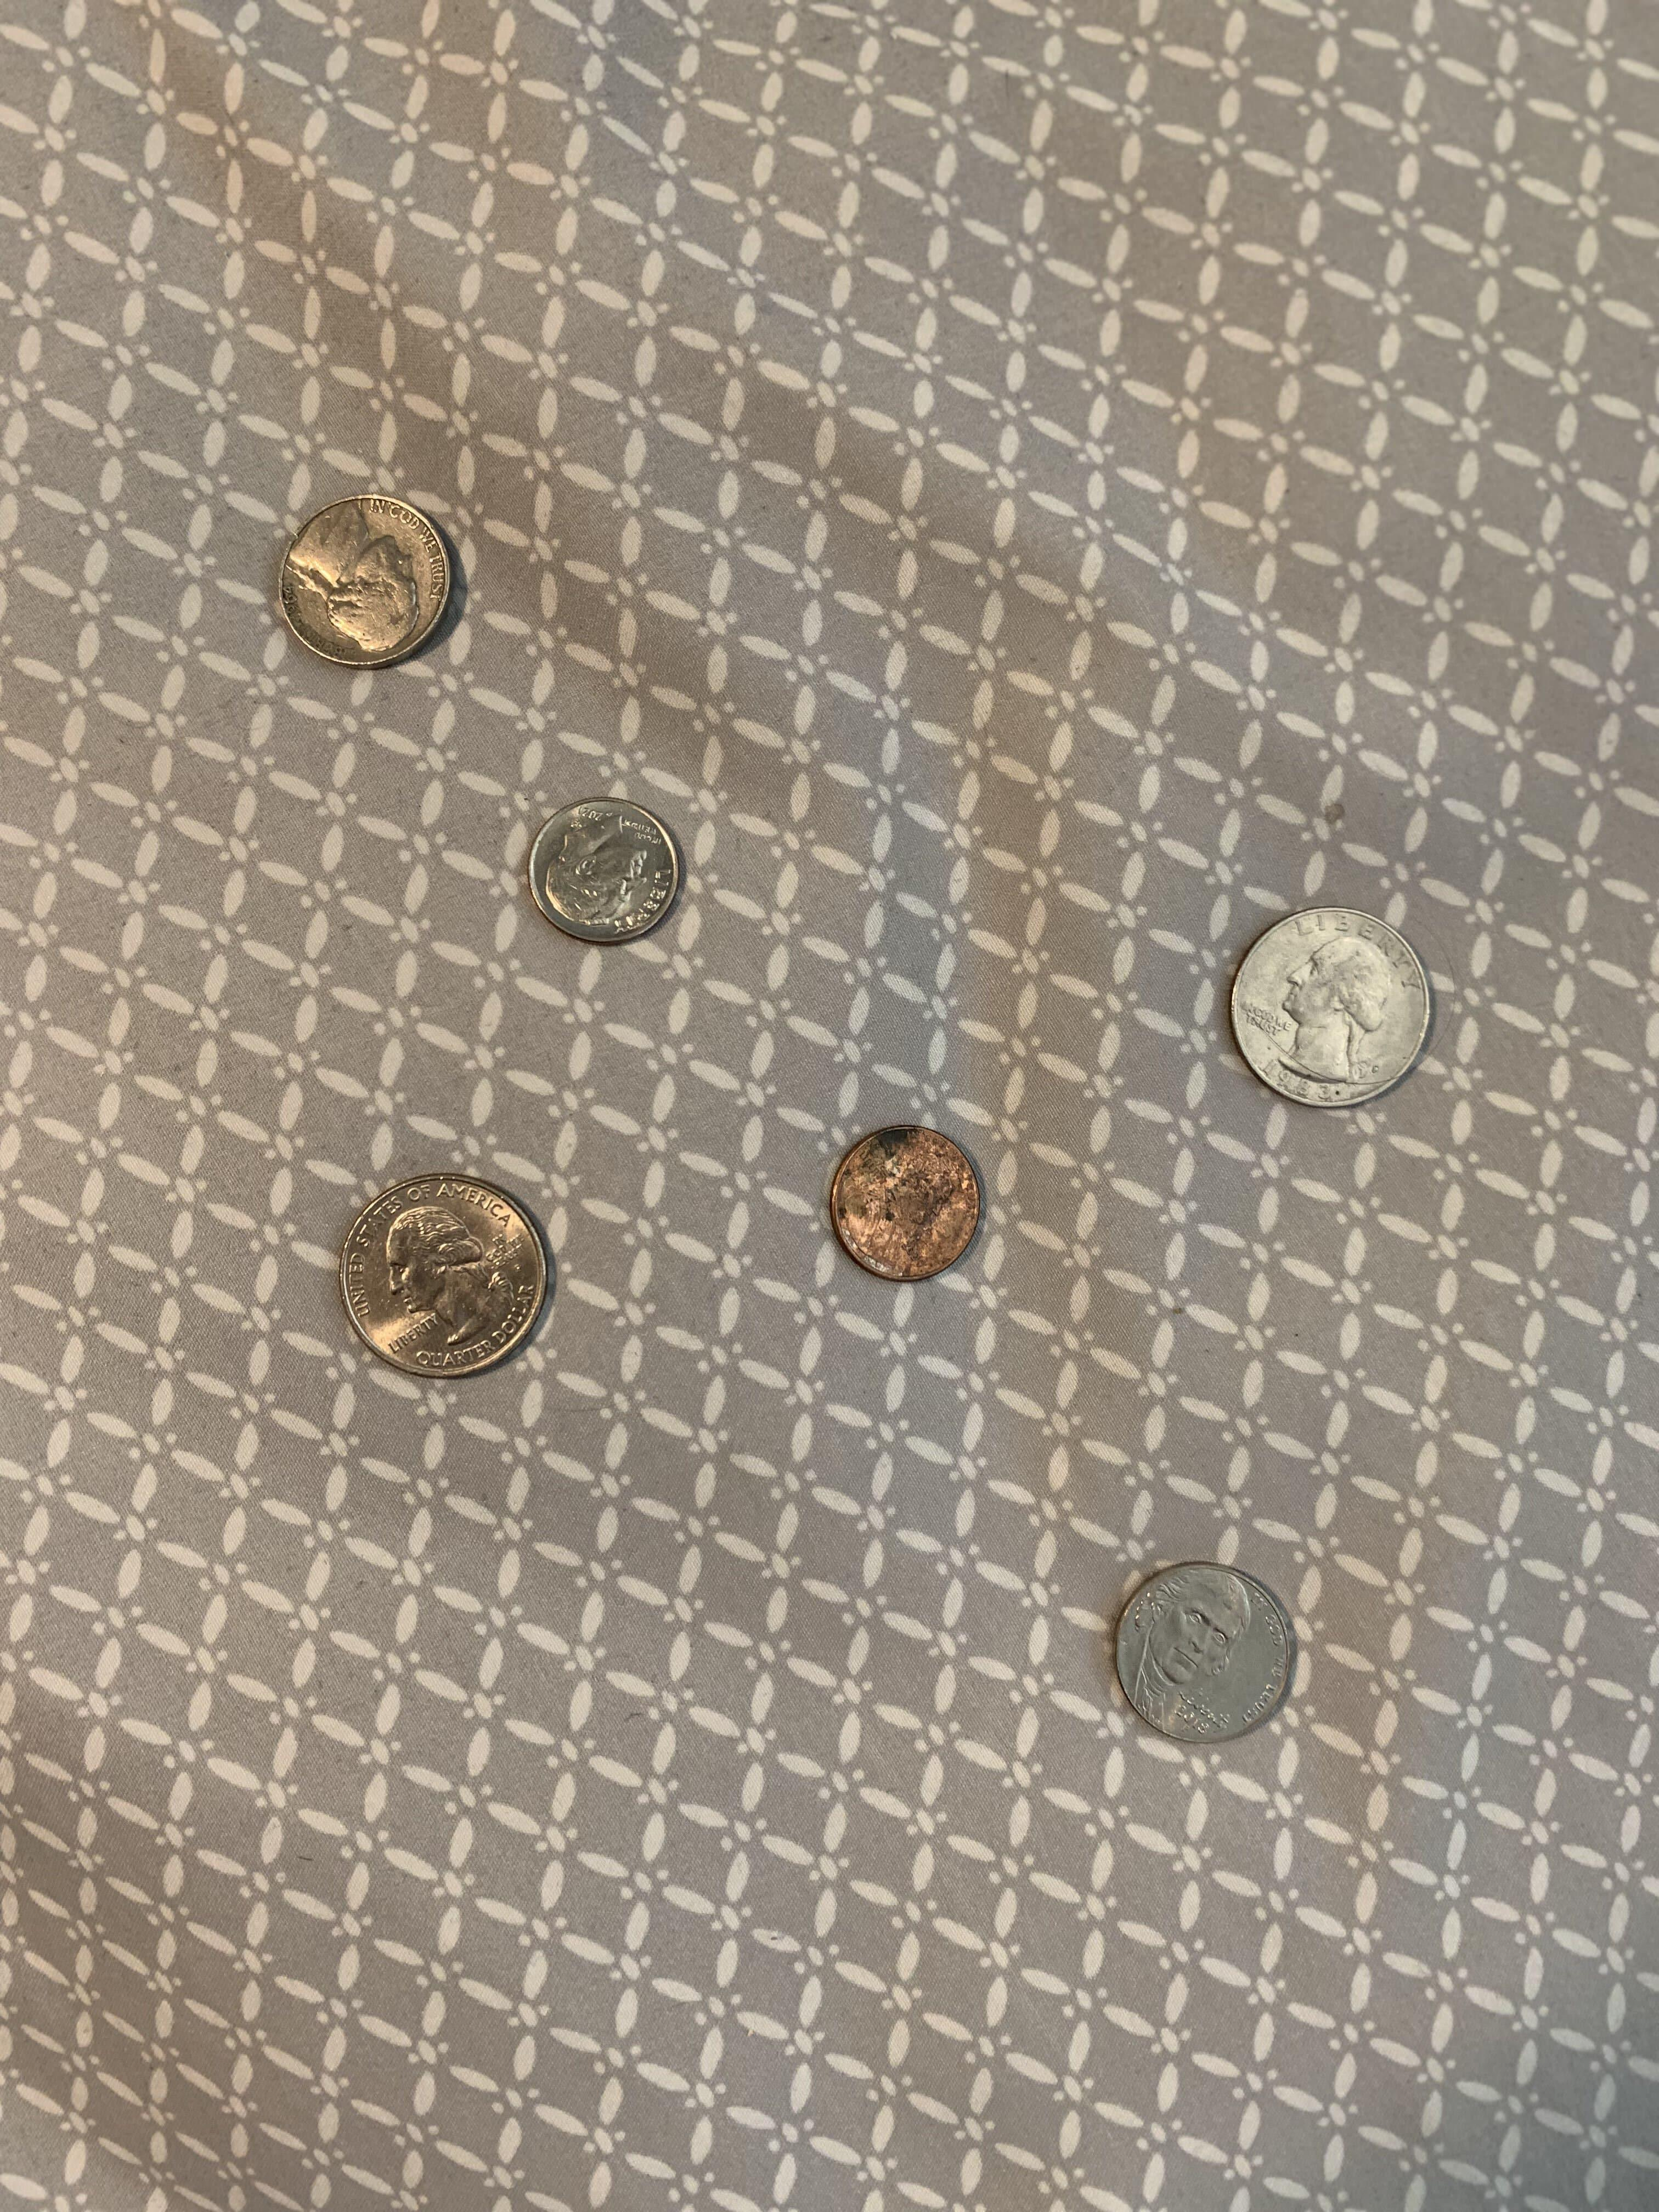Dime: (493, 772, 725, 977)
Nickel: (1079, 1540, 1335, 1773), (258, 463, 481, 698)
Penny: (803, 1106, 1011, 1317)
Quarter: (1185, 885, 1485, 1136), (317, 1144, 577, 1392)
